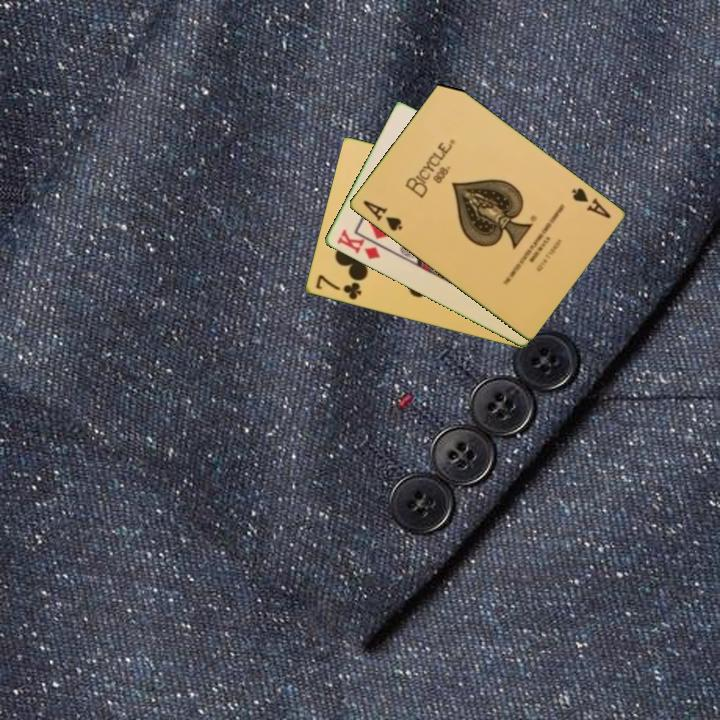7c: (312, 271, 364, 303)
As: (359, 196, 405, 234), (567, 184, 613, 222)
Kd: (333, 226, 383, 262)
